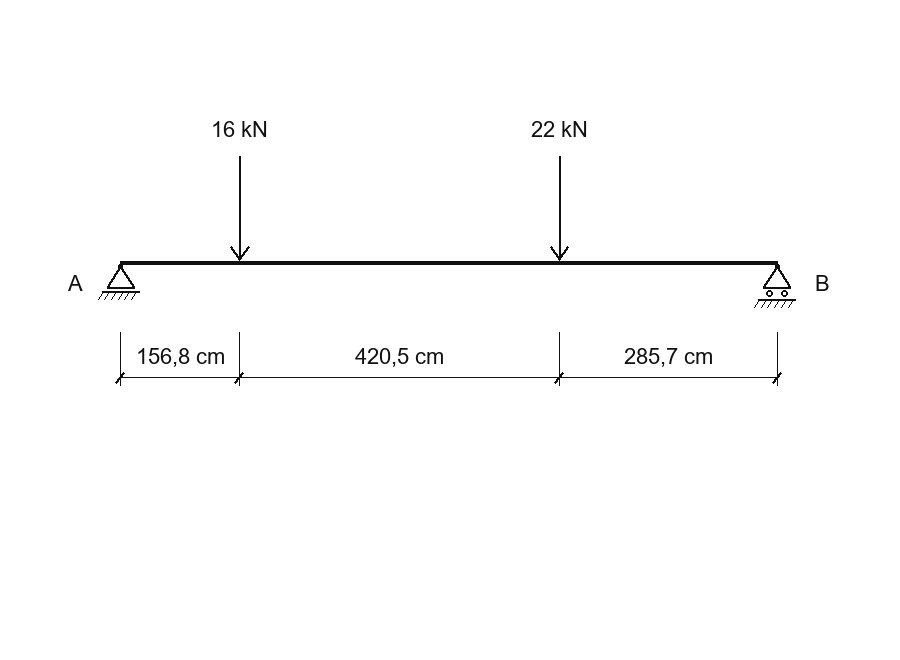pin_support: (98, 264, 140, 300)
point_load: (230, 156, 250, 261), (550, 156, 569, 261)
roller_support: (754, 264, 796, 308)
